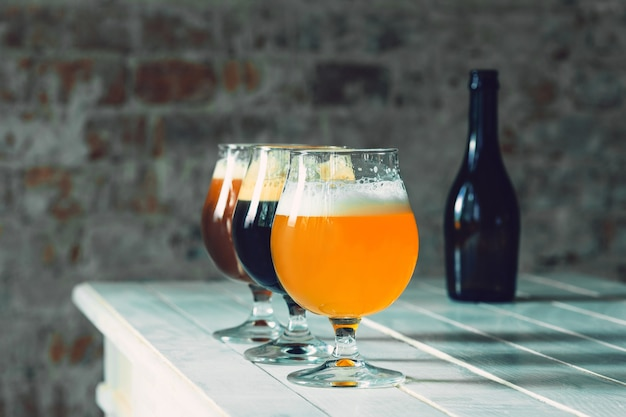alcohol: (272, 150, 422, 386), (231, 146, 358, 370), (202, 141, 304, 345), (445, 69, 522, 302)
